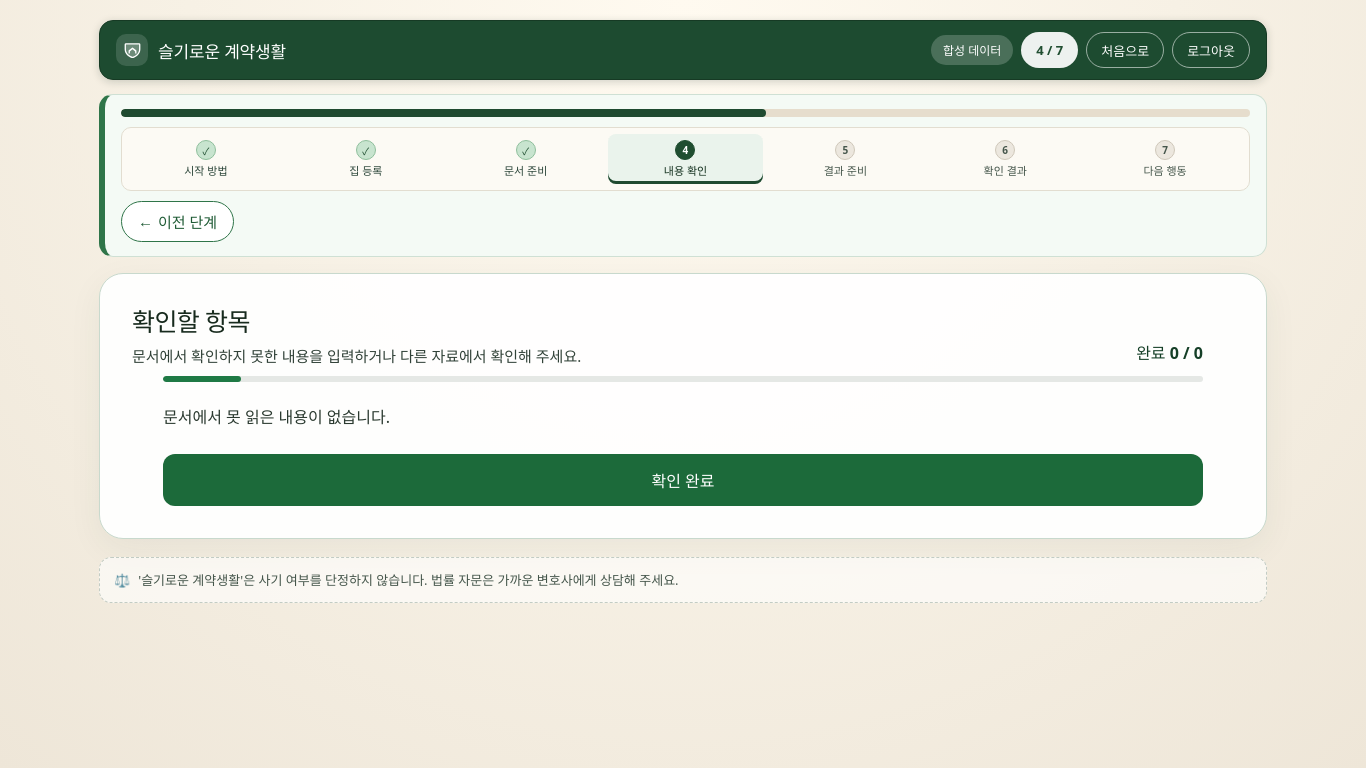
Test: ExtractionReviewPage › restores an already saved contract situation
The width and height of the screenshot is (1366, 768).
Expected: the text "문서에서 못 읽은 내용이 없습니다." is shown, [163,406,390,428]
Click the button "확인 완료" at {"x": 683, "y": 480}, box [163,454,1203,506]
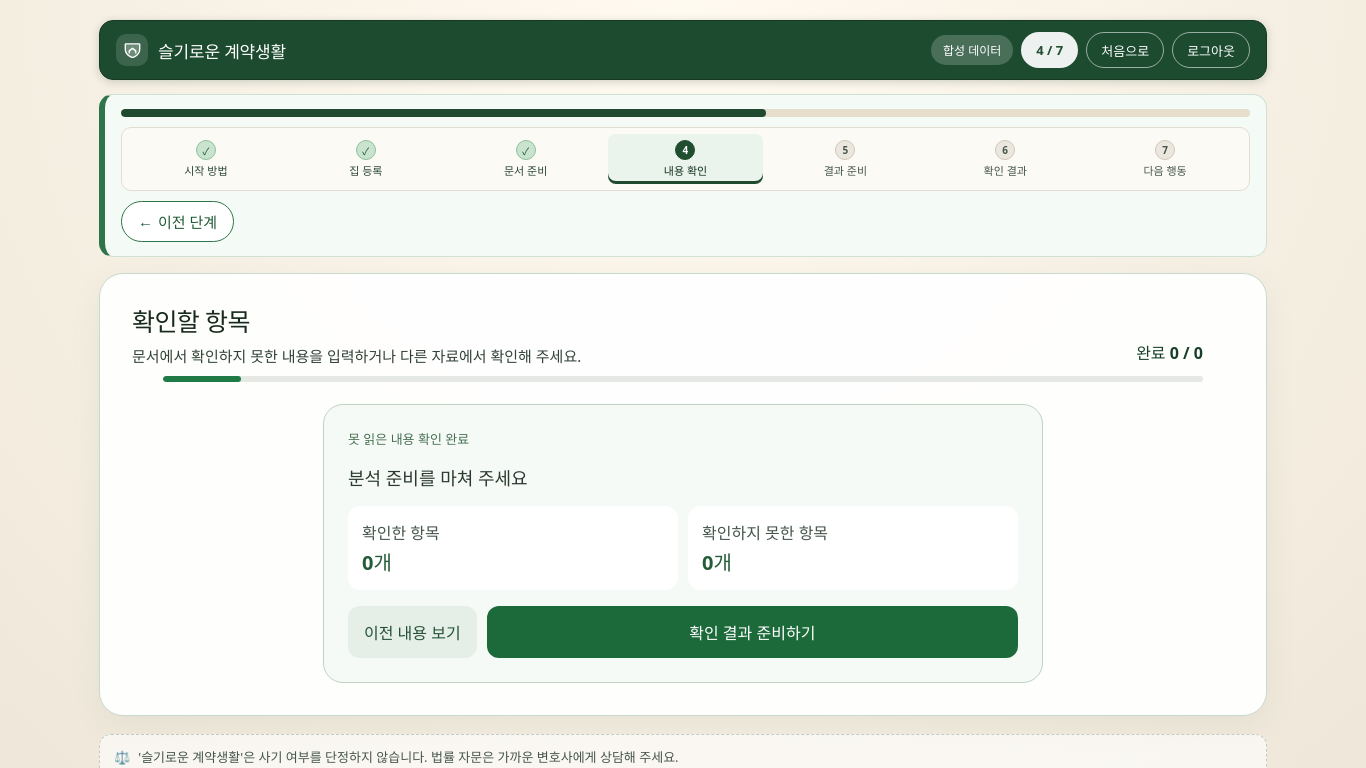
Expected: the button "확인 결과 준비하기" is enabled, [487,606,1018,658]
